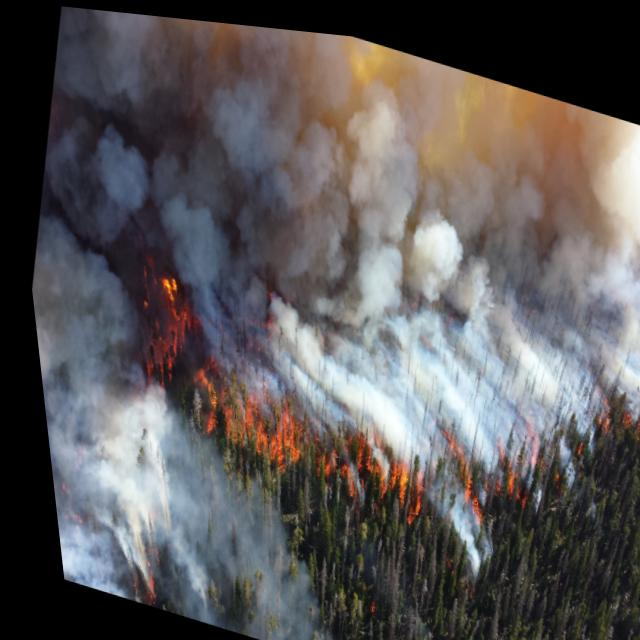Fire: (78, 232, 532, 565), (491, 324, 640, 524)
